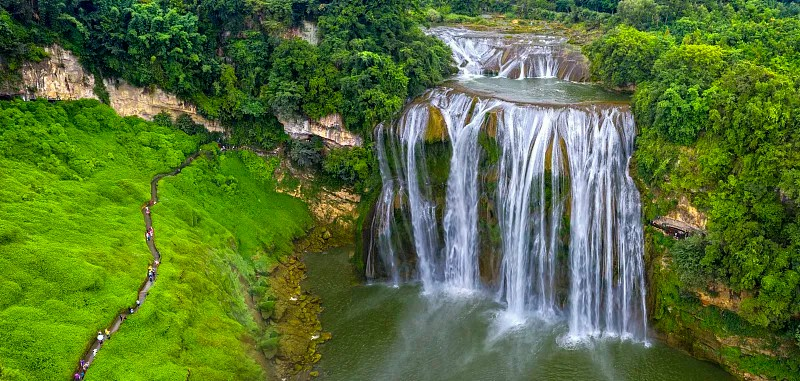Huangguoshu: (368, 26, 649, 345)
